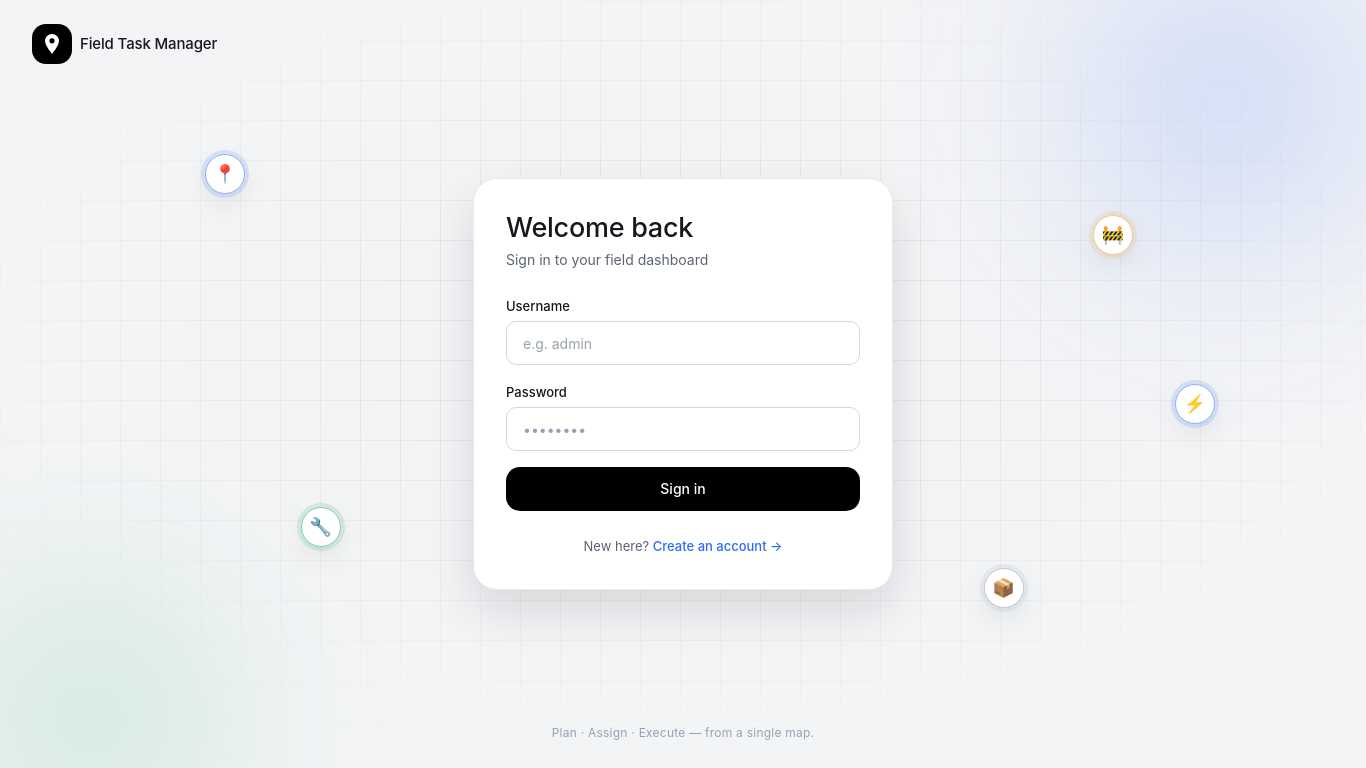
Test: LoginComponent › shows a generic error on a non-401 failure
Type "alice" into the field with id "login-username". click: {"x": 683, "y": 343}
box: [506,321,860,365]
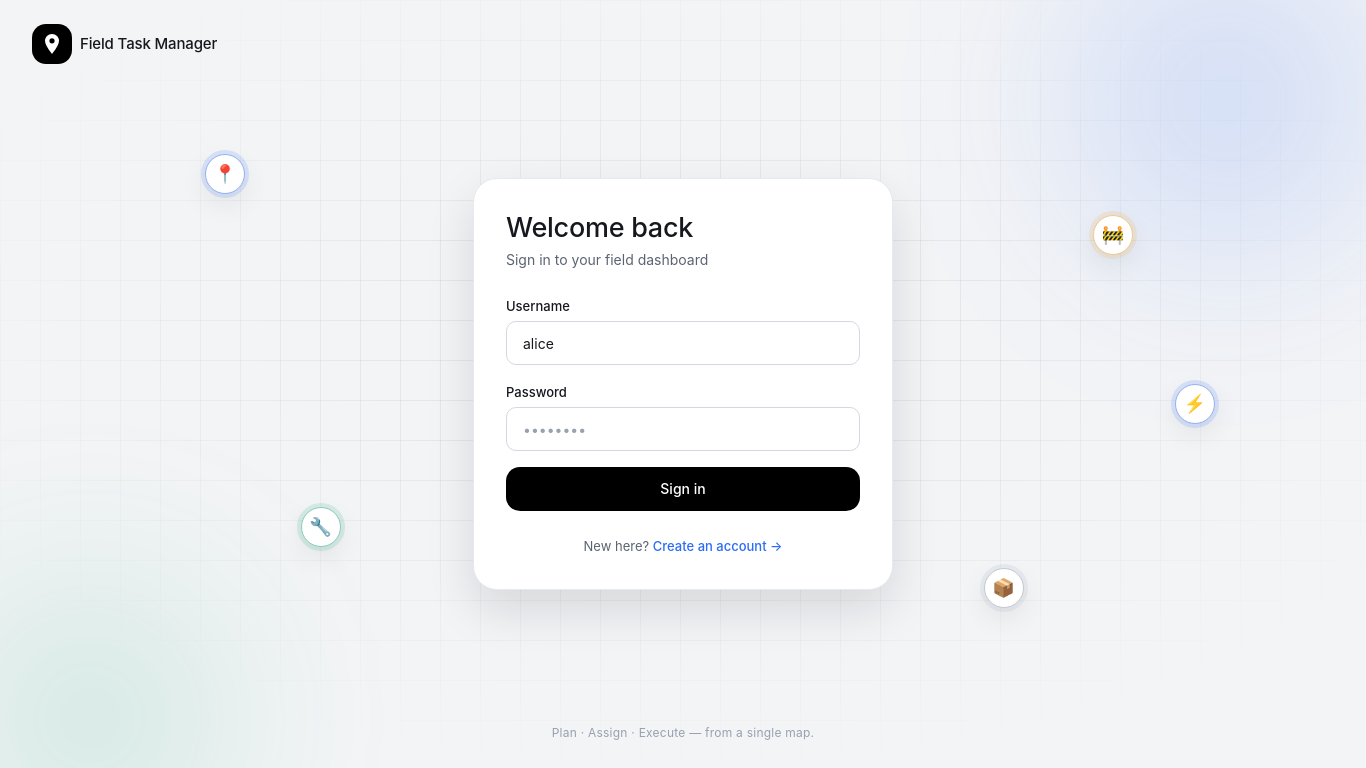
Type "pw" into the password field with id "login-password". click: {"x": 683, "y": 429}
box: [506,407,860,451]
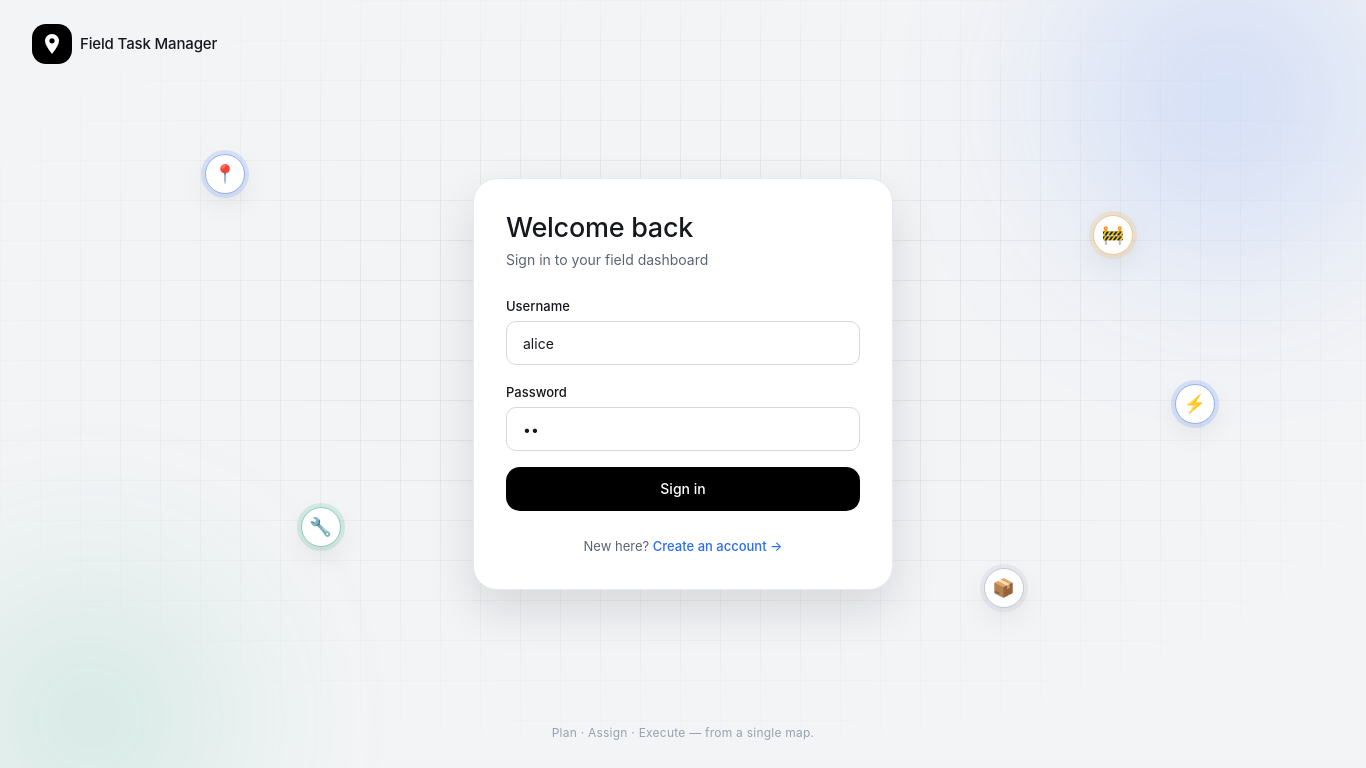
Submit the form, box [506,295,860,511]
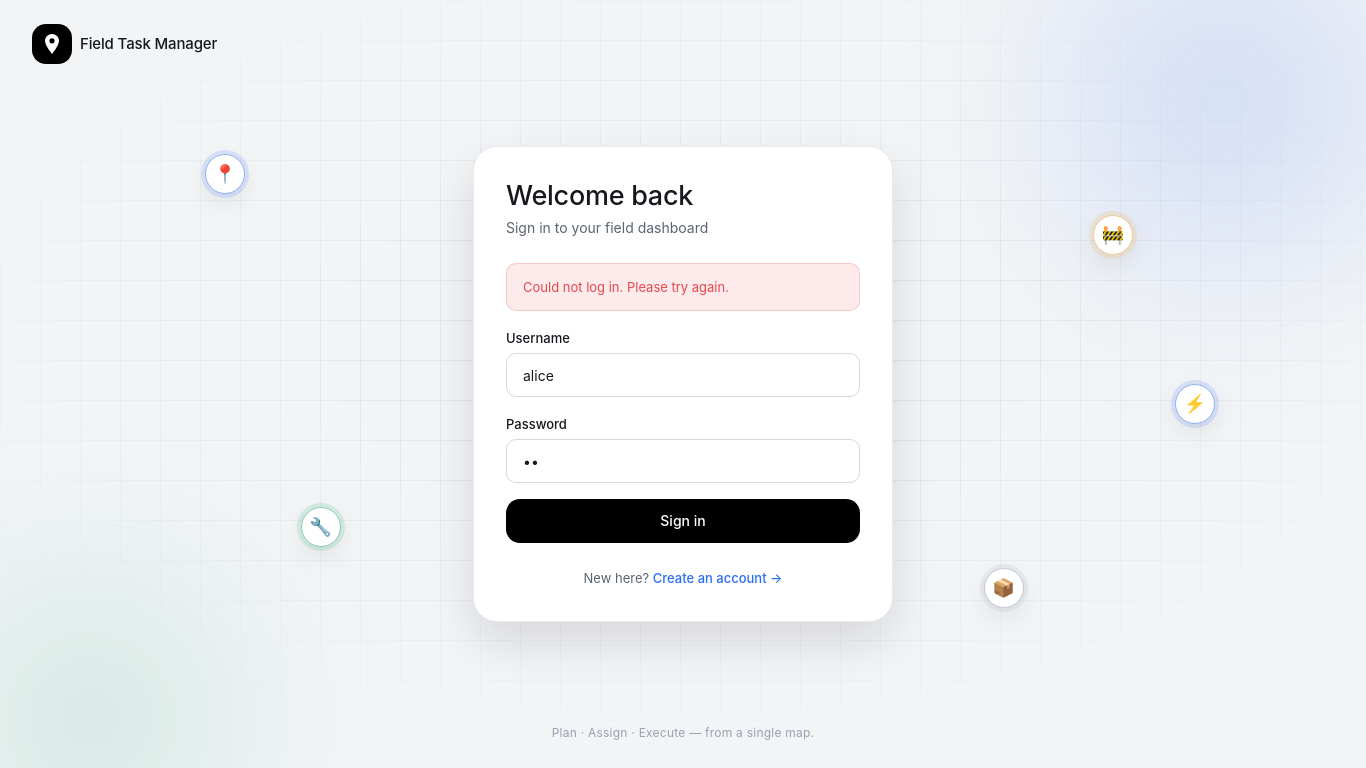
Result: the message with class "alert--error" reads "Could not log in. Please try again." at [523,279,729,295]
